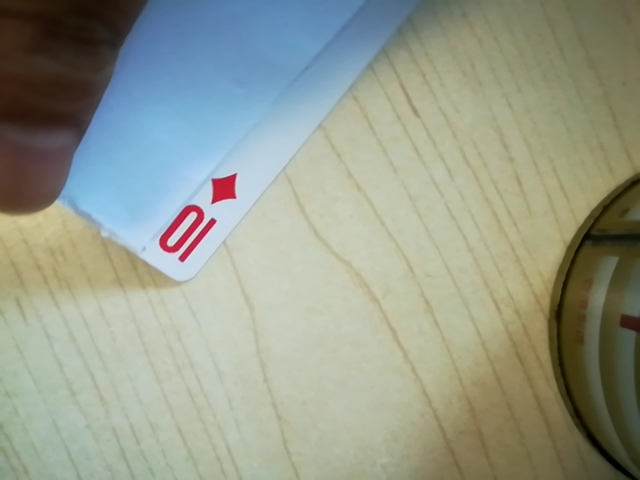fk 10: (146, 168, 242, 269)
